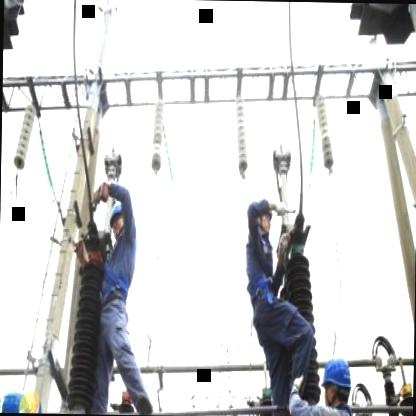helmet: (318, 350, 352, 410), (108, 196, 130, 238), (0, 389, 36, 413)
